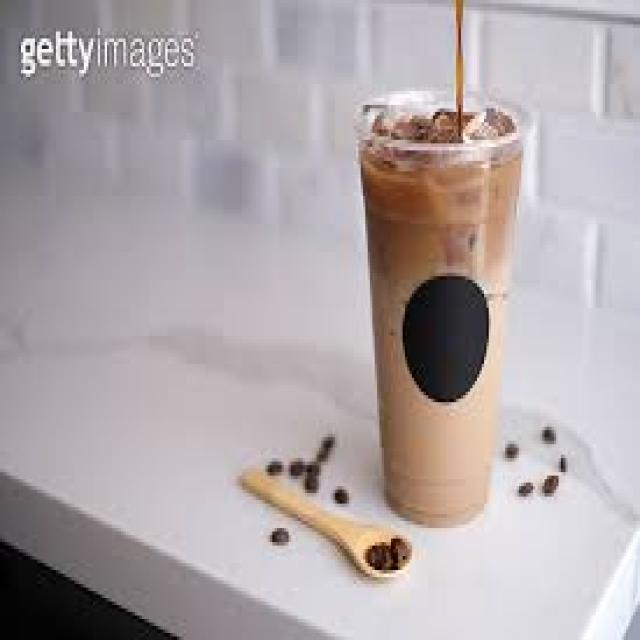bottle: (357, 92, 521, 525)
